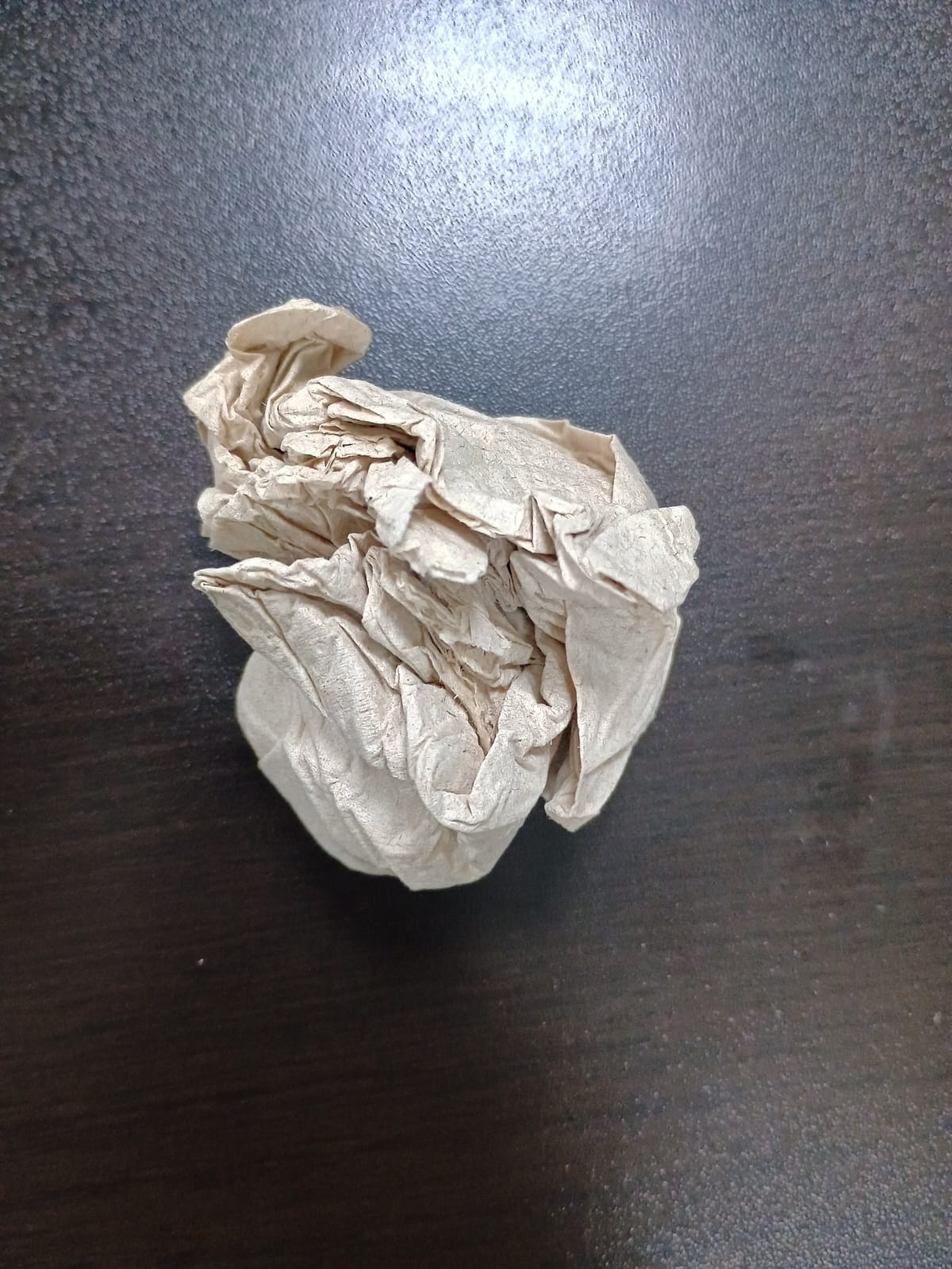Ordinario: (179, 299, 701, 892)
